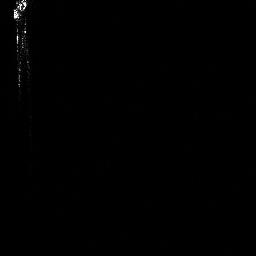ship: (12, 1, 30, 90)
